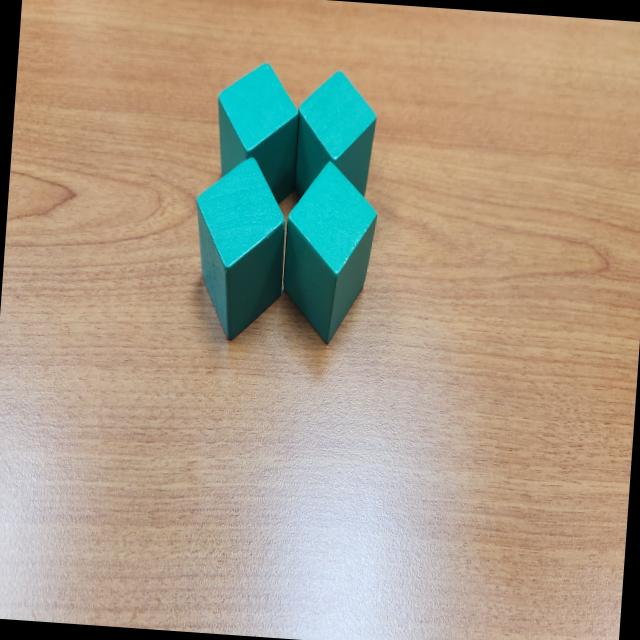green: (187, 154, 290, 346), (278, 157, 381, 346), (211, 58, 302, 208), (291, 68, 380, 210)
